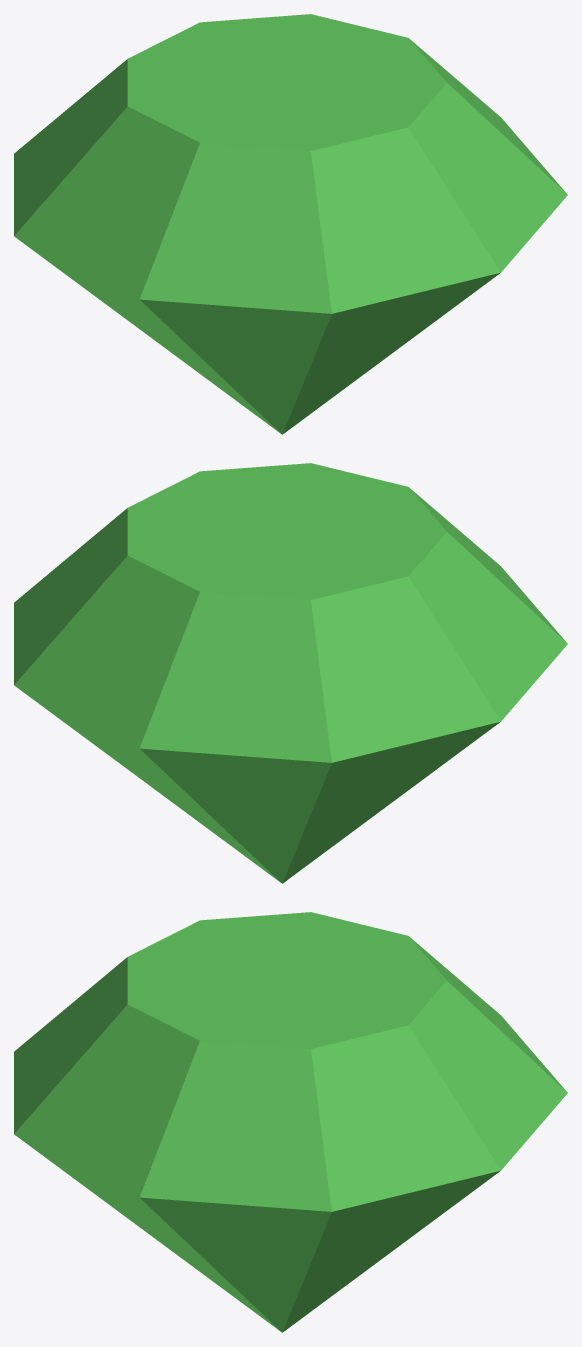
The model's file is Crystal Green.fbx.
The picture shows the model from 3 angles, top to bottom: view 1: azimuth 30°, elevation 25°; view 2: azimuth 150°, elevation 25°; view 3: azimuth 270°, elevation 25°; orthographic projection.
Visible parts, largest first — view 1: Crystal Green; view 2: Crystal Green; view 3: Crystal Green.
Boxes of the visible parts, left/top/right/bottom form: Crystal Green: left=14, top=14, right=567, bottom=434; Crystal Green: left=14, top=463, right=567, bottom=883; Crystal Green: left=14, top=912, right=567, bottom=1332.
Size of the model in its own units: 93.7 by 64.74 by 92.27.
